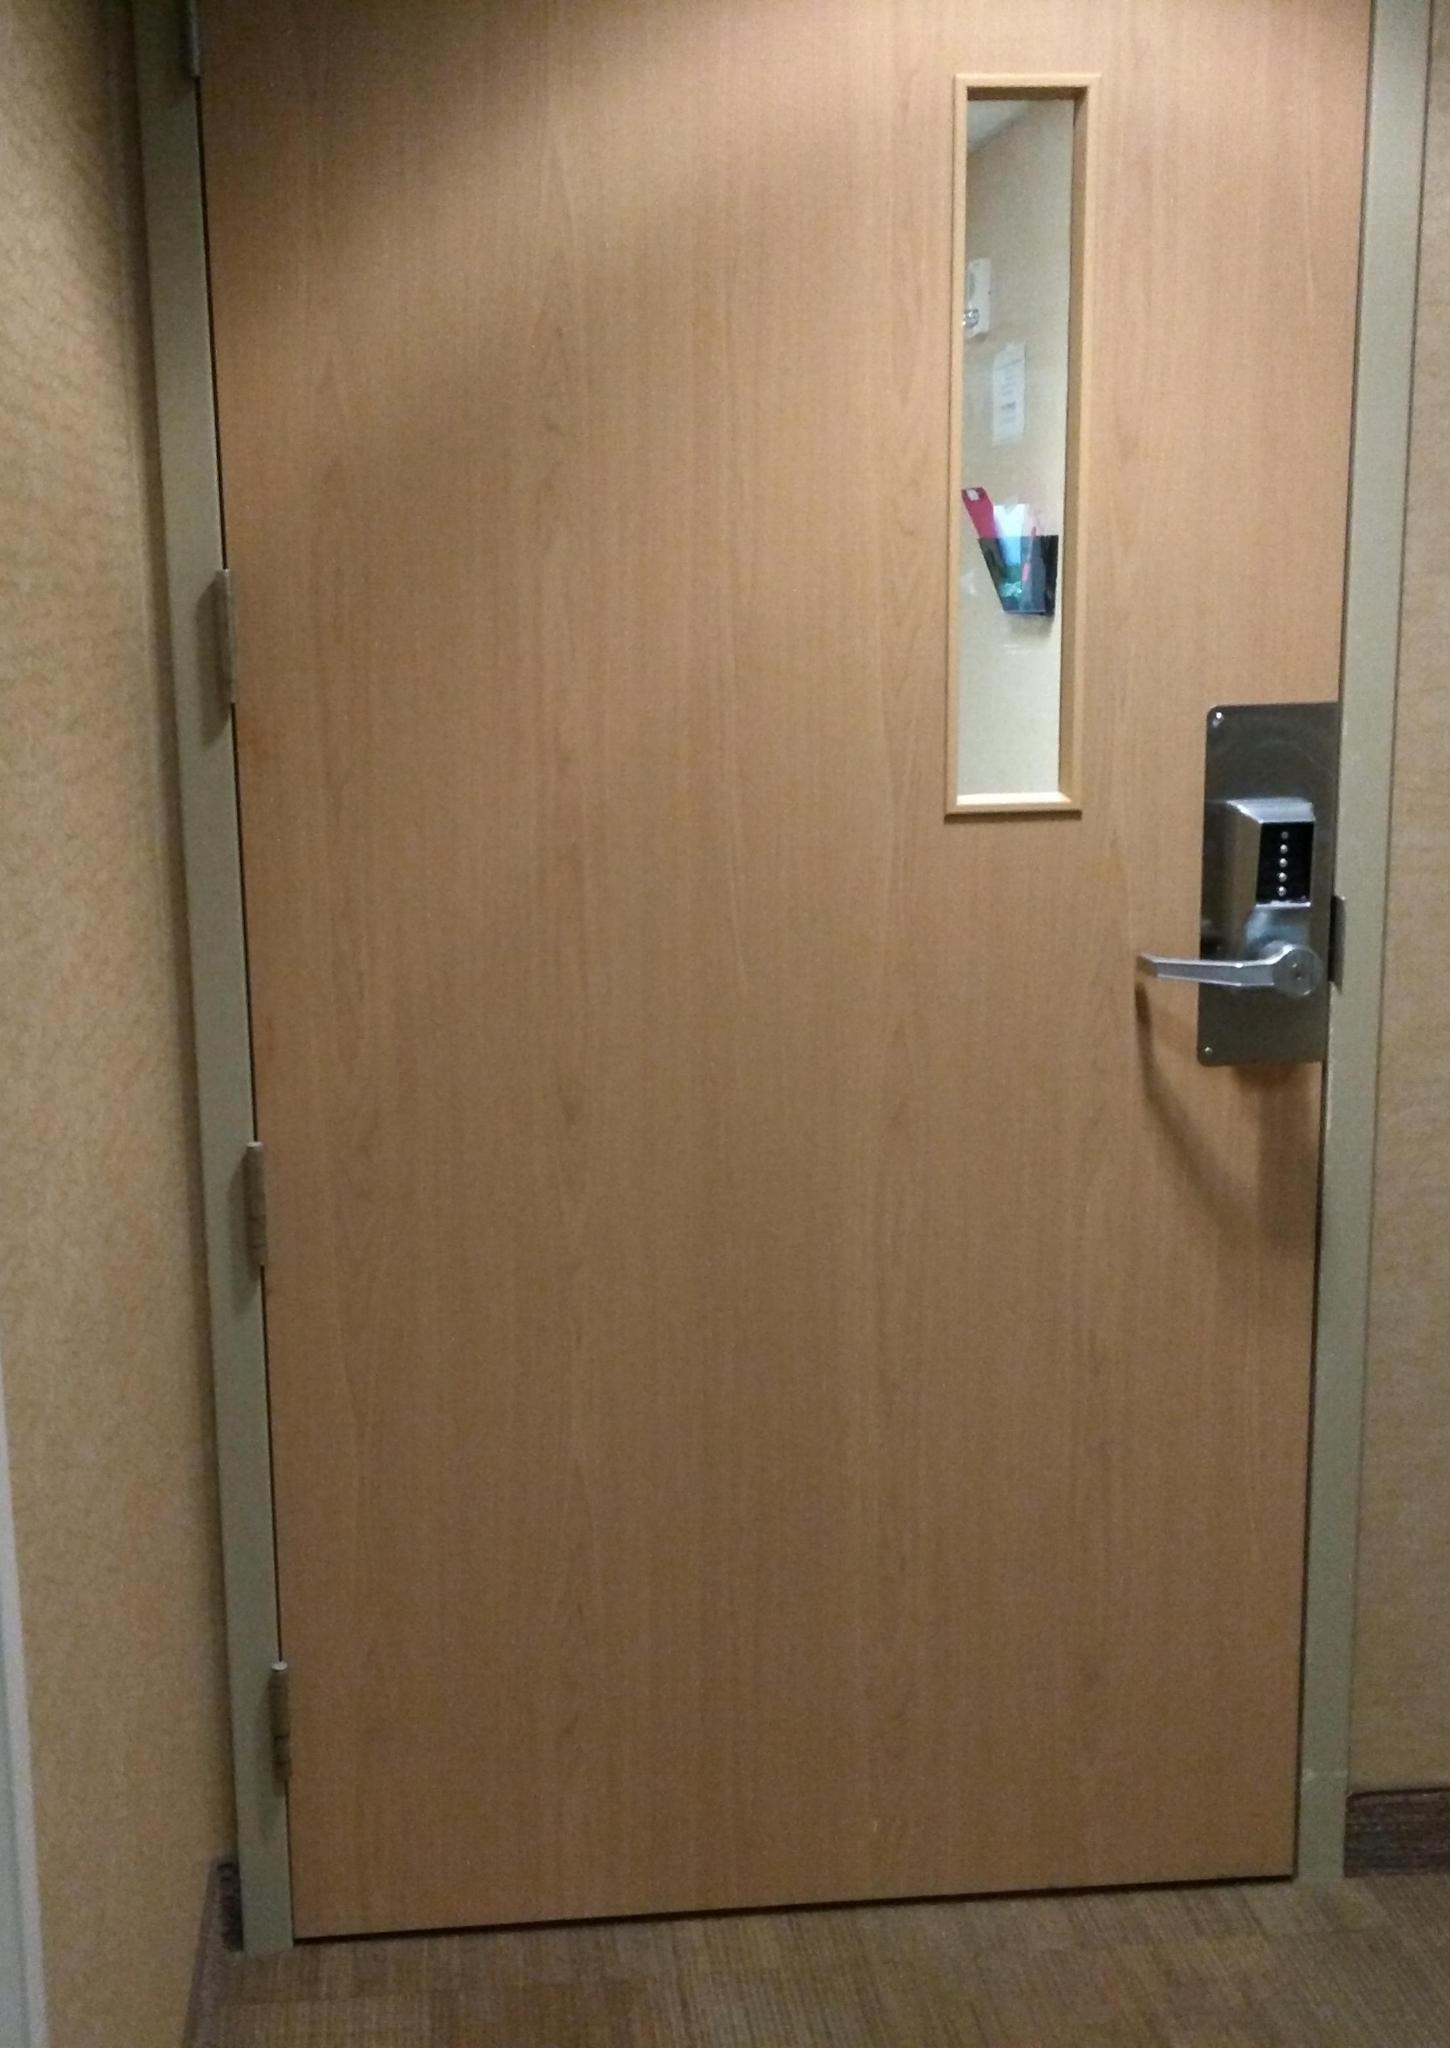door: (262, 69, 1292, 1891)
handle: (1133, 916, 1329, 1037)
